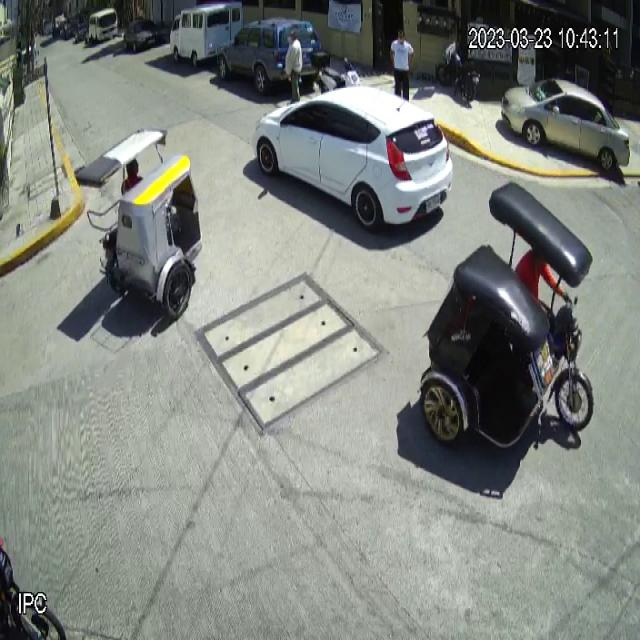Car: (252, 85, 453, 236), (501, 77, 632, 175), (216, 15, 322, 96)
Tricycle: (415, 178, 595, 453), (74, 126, 205, 321)
Van: (169, 0, 245, 68)
